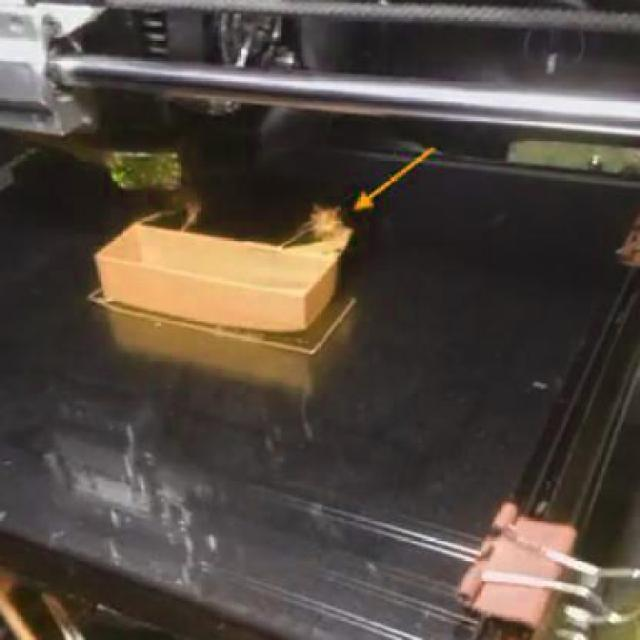spaghetti: (307, 204, 342, 235)
